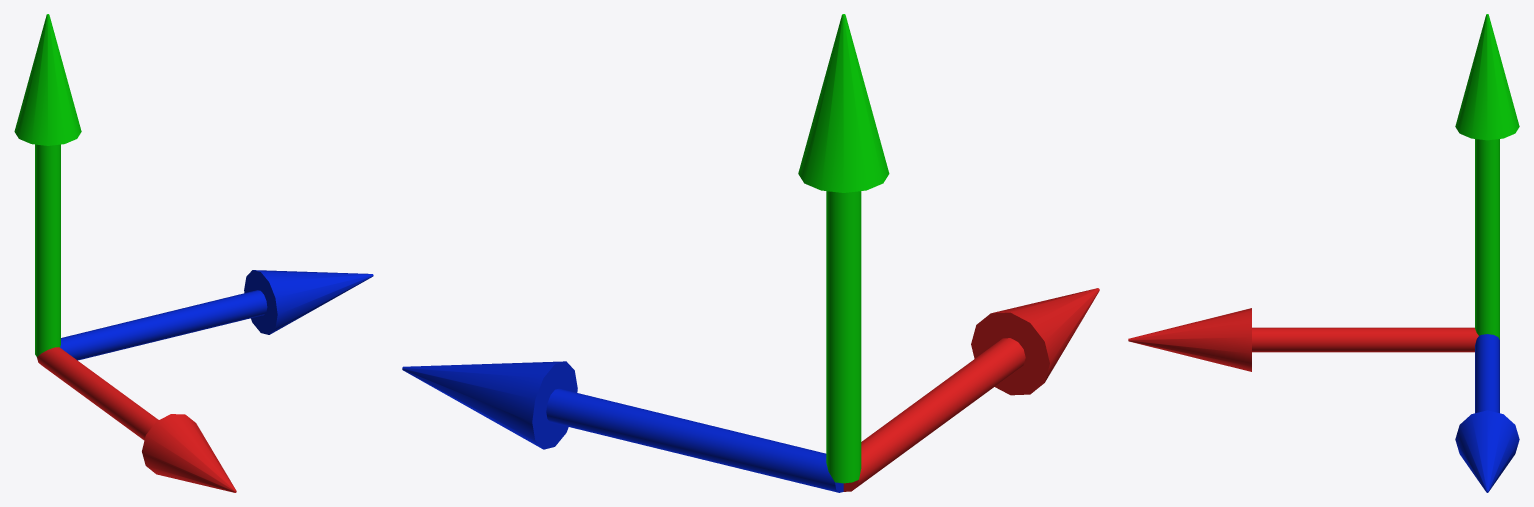
The model's file is axyz.fbx.
3 views of the same model, side by side, from view 1: azimuth 30°, elevation 25°; view 2: azimuth 150°, elevation 25°; view 3: azimuth 270°, elevation 25° (orthographic). The views are drawn at different scales.
Parts seen in each view (by area): view 1: normal1; view 2: normal1; view 3: normal1.
Boxes of the visible parts, left/top/right/bottom form: normal1: left=14, top=14, right=373, bottom=492; normal1: left=402, top=14, right=1099, bottom=492; normal1: left=1128, top=14, right=1519, bottom=492.
Bounding box in the file's own units: 158 × 158 × 158.
